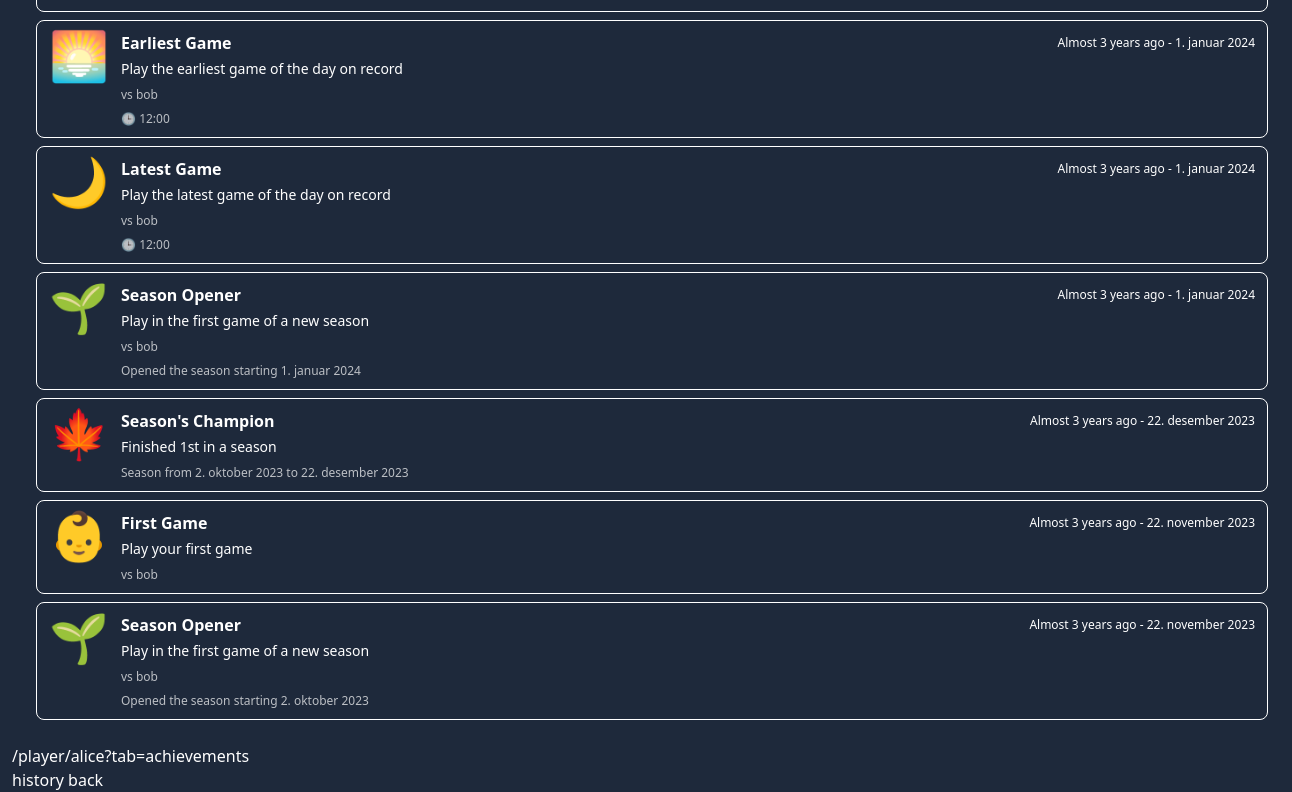
Scenario: navigation from a player's achievements to the details page › links an earned achievement's name and icon to its details
This screenshot has width=1292, height=792.
(page scrolled)
Click the link "First Game" at (164, 523), box x1=121 y1=512 x2=207 y2=534
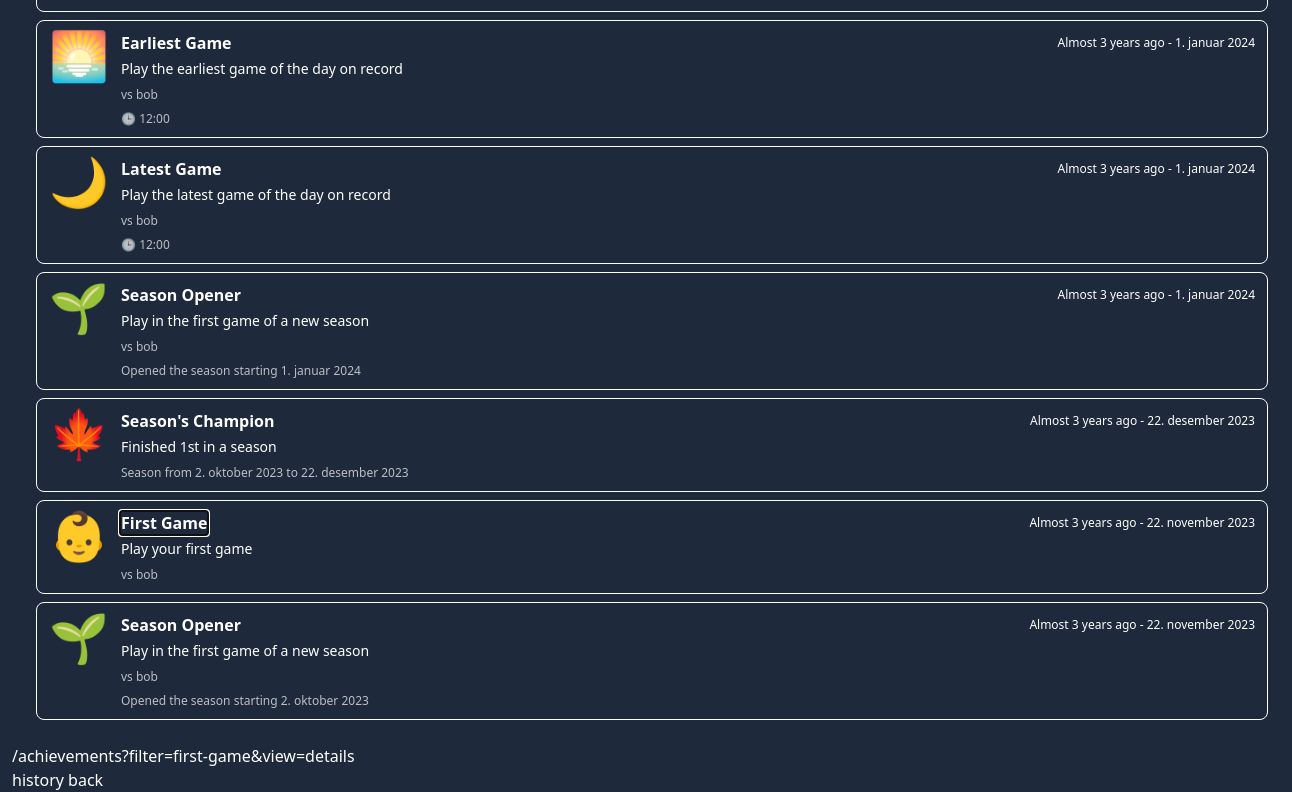
Result: the text with test id "location" reads "/achievements?filter=first-game&view=details" at x1=12 y1=745 x2=355 y2=767
